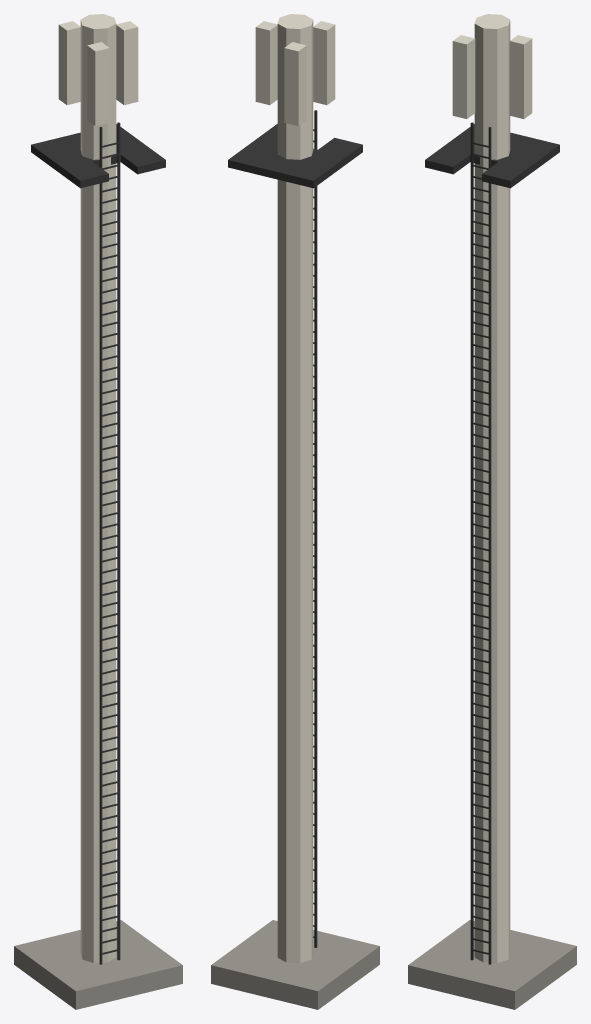
File: antena_celular_a.glb
3 views of the same model, side by side, from view 1: azimuth 30°, elevation 25°; view 2: azimuth 150°, elevation 25°; view 3: azimuth 330°, elevation 25° (orthographic).
Visible parts, largest first — view 1: antena_celular_a; view 2: antena_celular_a; view 3: antena_celular_a.
Part boxes in pixels (bbox=[...]): antena_celular_a: bbox=[14, 14, 182, 1009]; antena_celular_a: bbox=[211, 14, 379, 1009]; antena_celular_a: bbox=[408, 14, 576, 1009].
Bounding box in the file's own units: 3 × 25.5 × 3.
